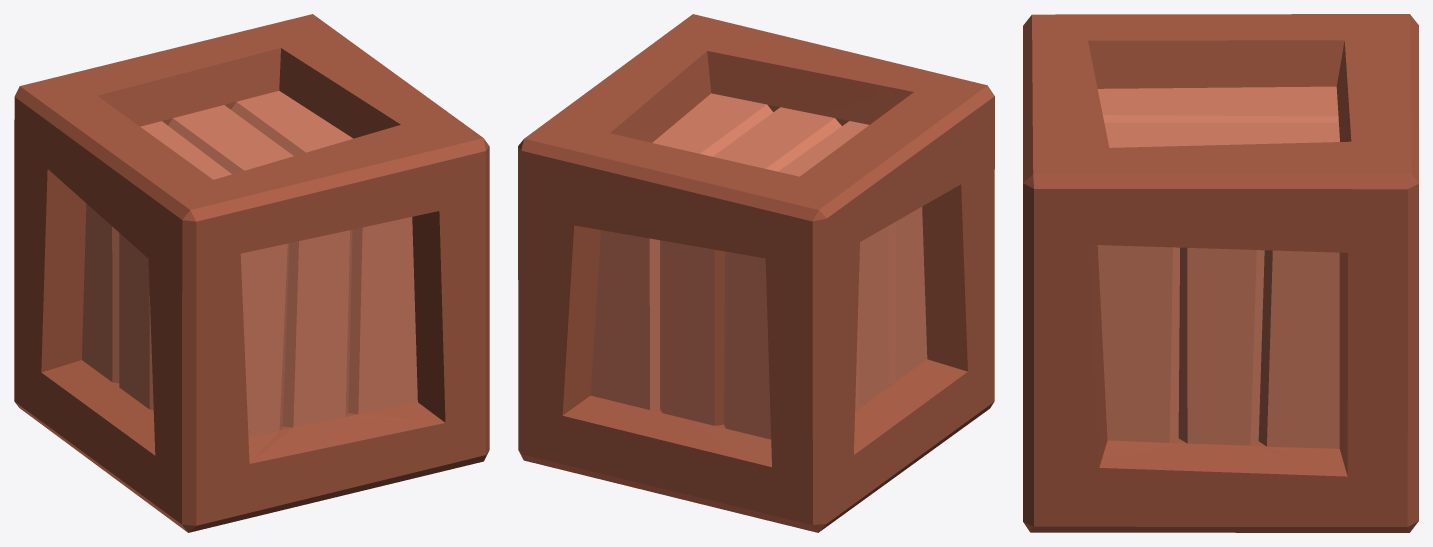
The model's file is crate.fbx.
3 renders of one model, left to right at view 1: azimuth 30°, elevation 25°; view 2: azimuth 150°, elevation 25°; view 3: azimuth 270°, elevation 25°, orthographic. The views are drawn at different scales.
Parts seen in each view (by area): view 1: Crate; view 2: Crate; view 3: Crate.
Boxes of the visible parts, x1,y1,x2,y2 form: Crate: [14, 14, 489, 532]; Crate: [518, 14, 994, 532]; Crate: [1023, 14, 1418, 532].
Size of the model in its own units: 100 by 100 by 100.
1 material, 1 textured.
